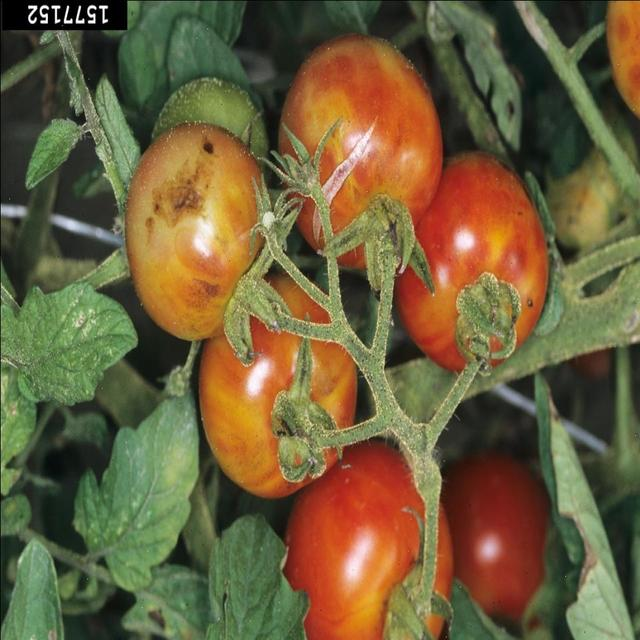Spotted wilt Virus Fruit: (96, 100, 316, 284)
